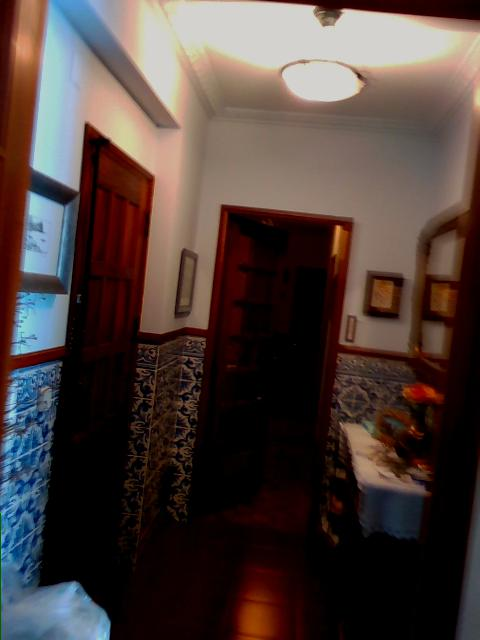semi_door: (189, 203, 355, 542)
